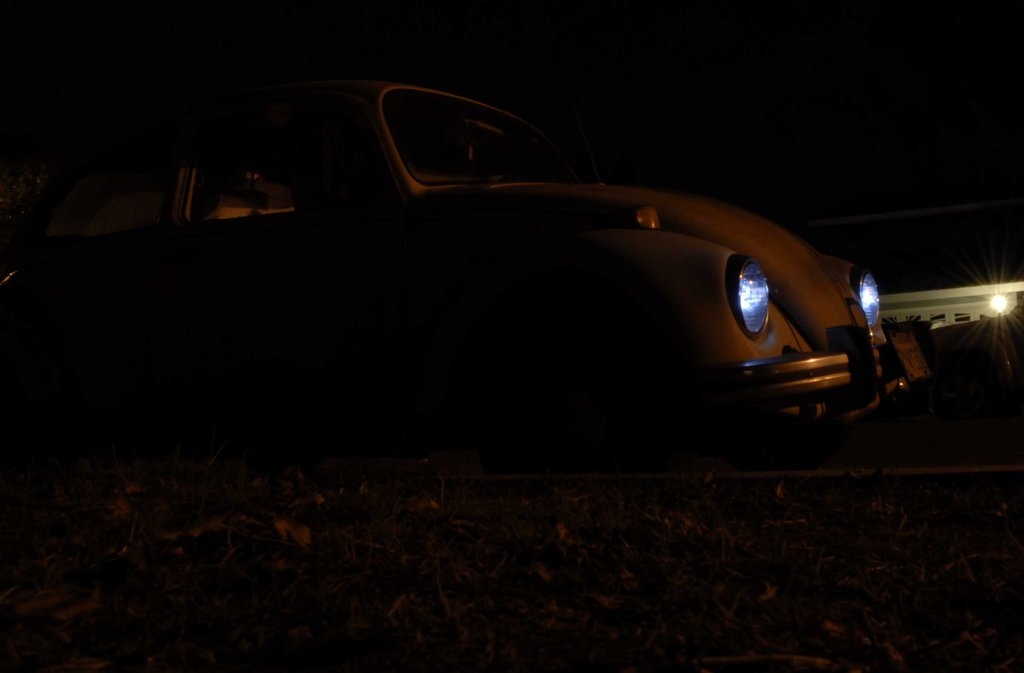car: (8, 69, 939, 506)
